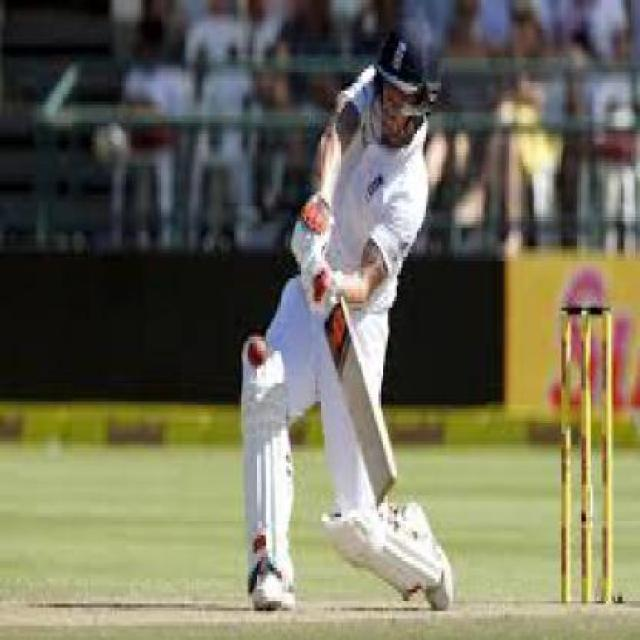ball: (223, 324, 292, 372)
